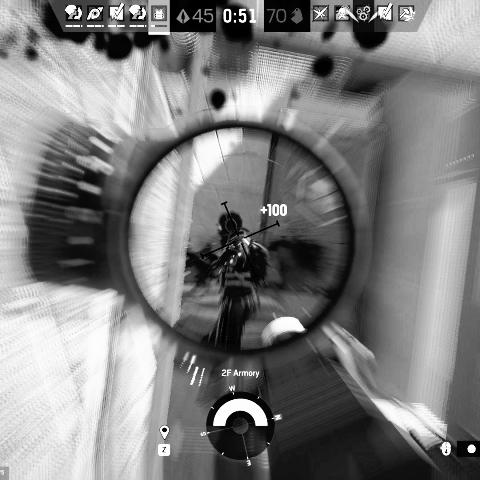Character: (183, 208, 273, 353)
Head: (215, 209, 246, 243)
